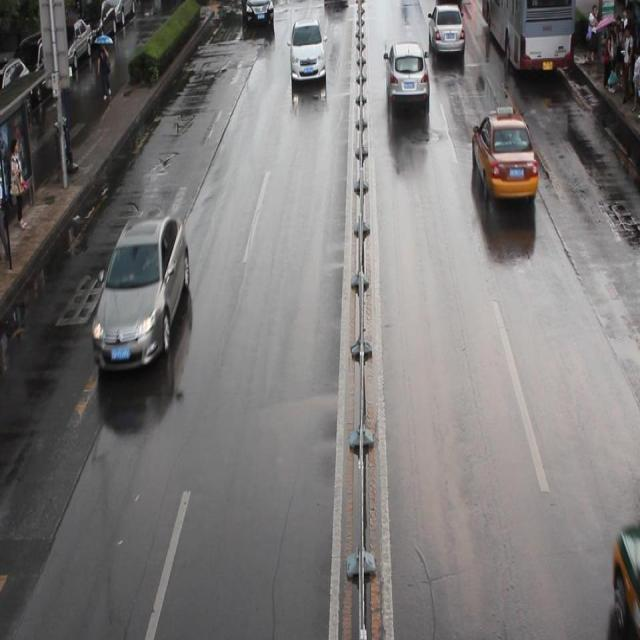car: (93, 216, 190, 372), (471, 108, 538, 199), (610, 518, 640, 640), (384, 40, 428, 106), (289, 19, 325, 82), (427, 1, 464, 55), (241, 1, 274, 27)
van: (479, 1, 574, 70)
